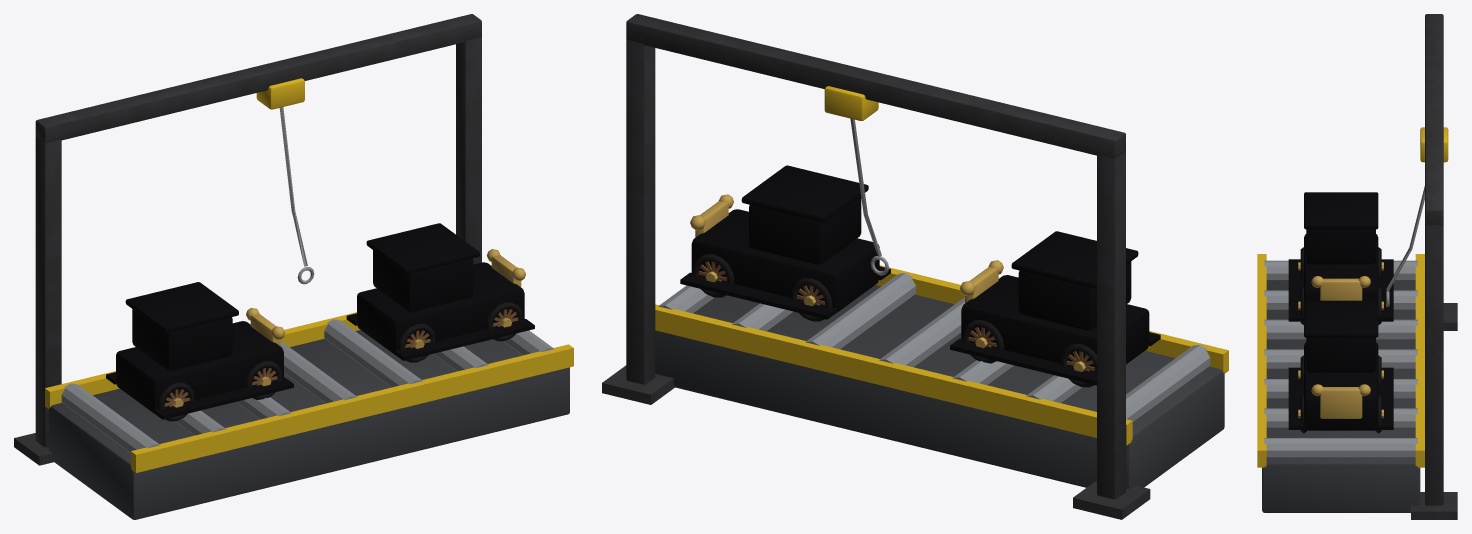
File: ford_line_mini.glb
3 renders of one model, left to right at view 1: azimuth 30°, elevation 25°; view 2: azimuth 150°, elevation 25°; view 3: azimuth 270°, elevation 25°, orthographic. The views are drawn at different scales.
Parts seen in each view (by area): view 1: line; view 2: line; view 3: line.
Boxes of the visible parts, x1,y1,x2,y2 form: line: (14,14,573,519); line: (602,14,1228,519); line: (1257,14,1457,519).
Bounding box in the file's own units: 1.06 × 0.72 × 0.43.
8 materials, 3 textured.
